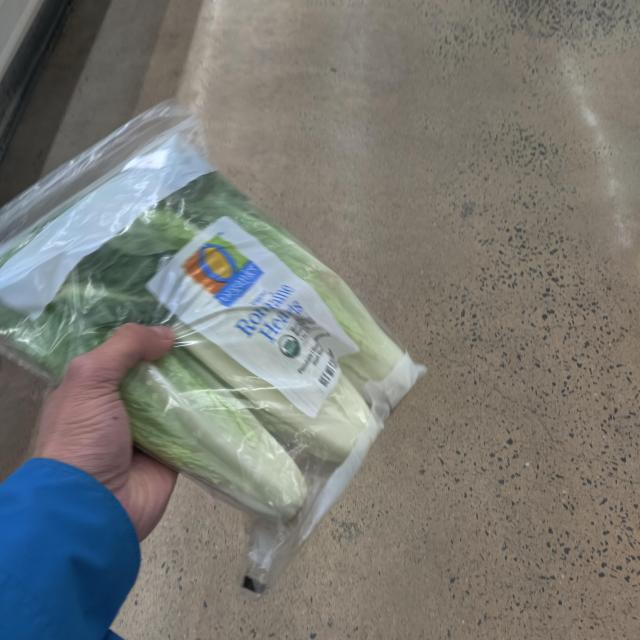Lettuce: (0, 132, 409, 548)
